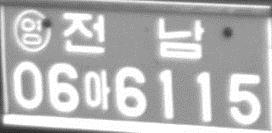0: (11, 59, 45, 109)
1: (151, 68, 184, 120), (188, 71, 219, 123)
5: (227, 73, 261, 125)
6: (113, 65, 148, 118), (46, 62, 80, 112)
아: (83, 68, 111, 111)
영: (12, 9, 53, 53)
전남_D: (61, 12, 205, 59)
